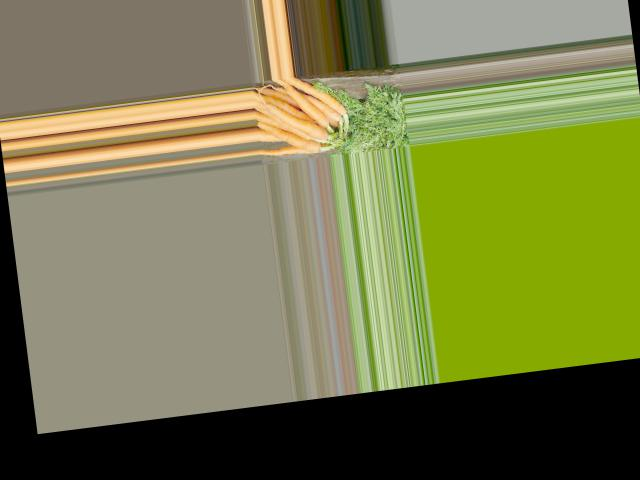carrot: (255, 112, 323, 160)
